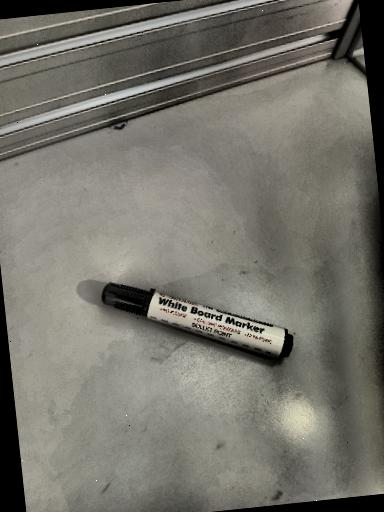marcador negro: (101, 282, 292, 359)
